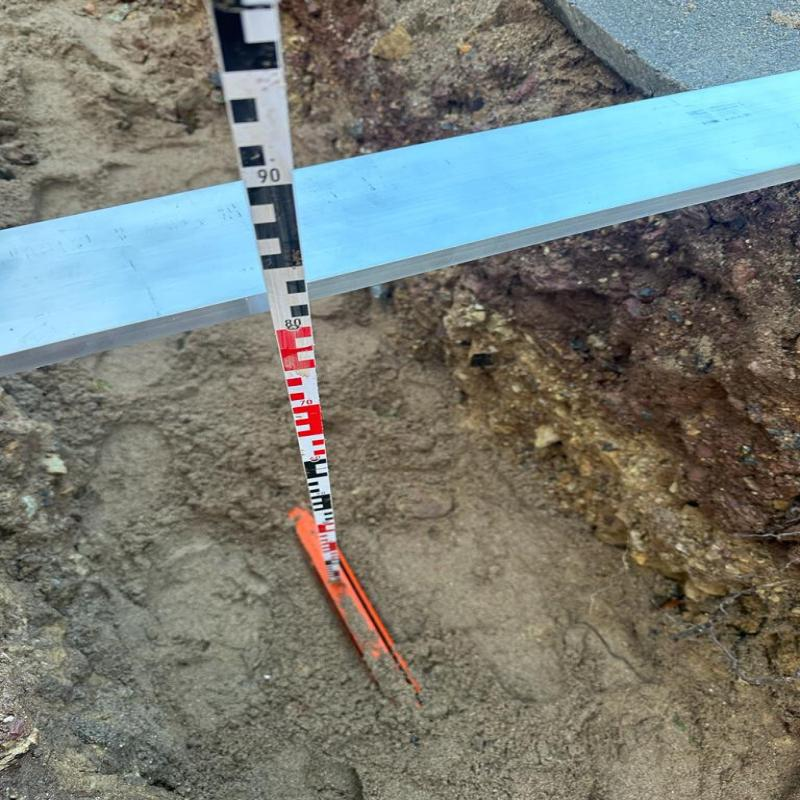Orang-Speednetrohrchen: (294, 506, 431, 706)
